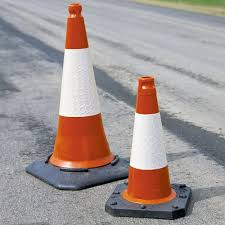cones: (27, 5, 126, 188), (109, 77, 190, 218)
